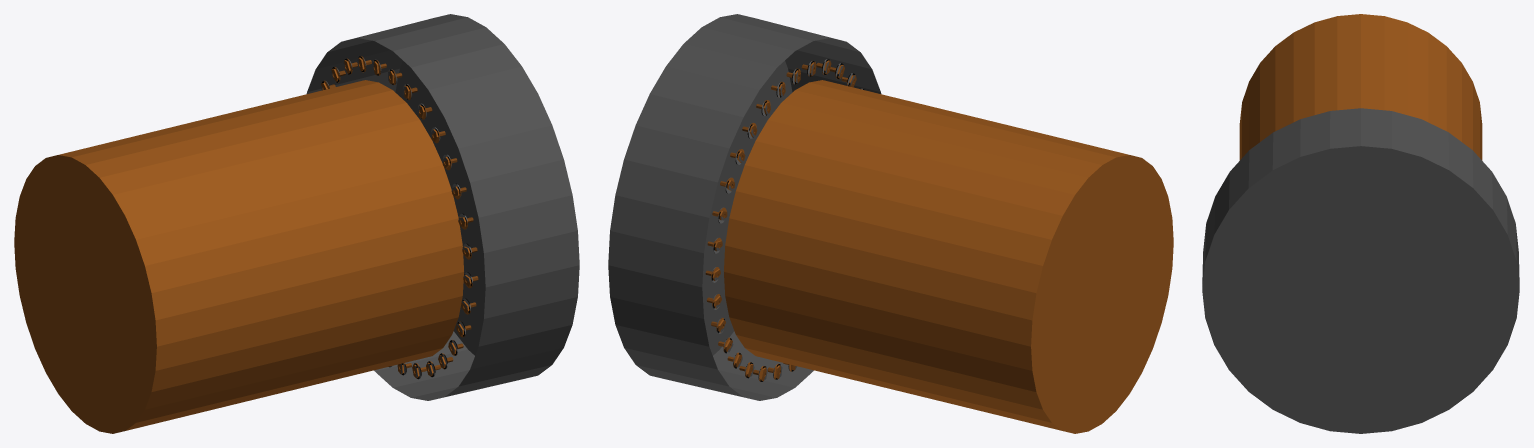
The model's file is ObjectsForThereWFR(PipeWallConector).fbx.
3 views of the same model, side by side, from view 1: azimuth 30°, elevation 25°; view 2: azimuth 150°, elevation 25°; view 3: azimuth 270°, elevation 25° (orthographic). The views are drawn at different scales.
Visible parts, largest first — view 1: FinalCopyConector; view 2: FinalCopyConector; view 3: FinalCopyConector.
Boxes of the visible parts, bbox=[...] form: FinalCopyConector: bbox=[14, 14, 579, 433]; FinalCopyConector: bbox=[608, 14, 1173, 433]; FinalCopyConector: bbox=[1202, 14, 1519, 433].
Size of the model in its own units: 324 by 262 by 262.
